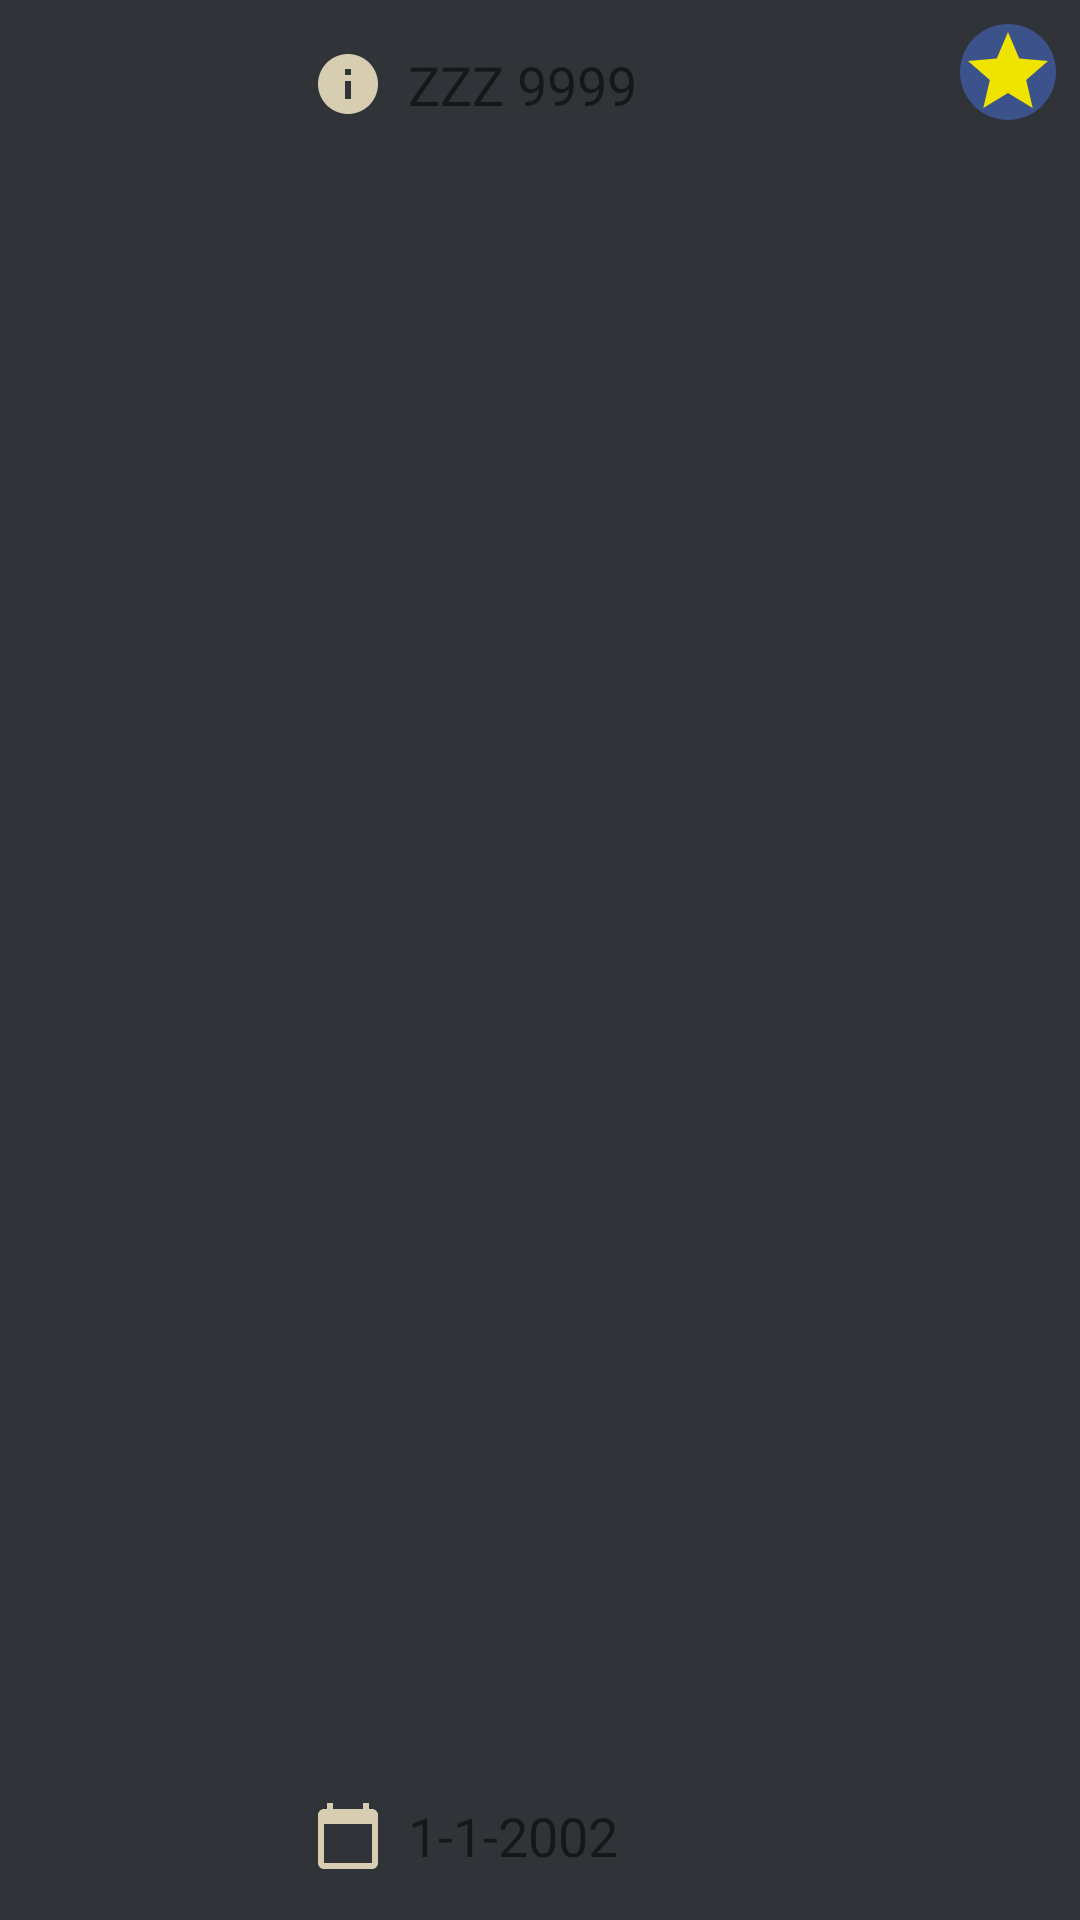

Named icons in this screenshot (1080x1920) and their centers, (x,y):
recycler view calendar: (348,1836)
recycler view favorites true: (1008,72)
recycler view plates information: (348,84)
